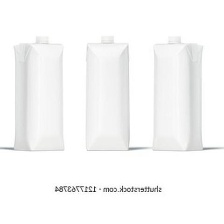carton: (147, 32, 206, 154), (10, 33, 68, 153), (82, 34, 132, 153)
